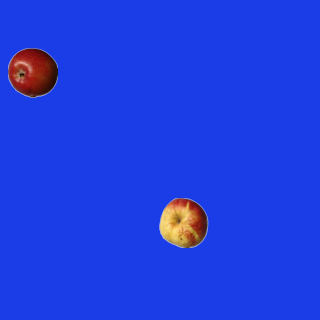Apple Braeburn: (7, 47, 57, 97)
Apple Red Yellow 1: (158, 197, 208, 247)
